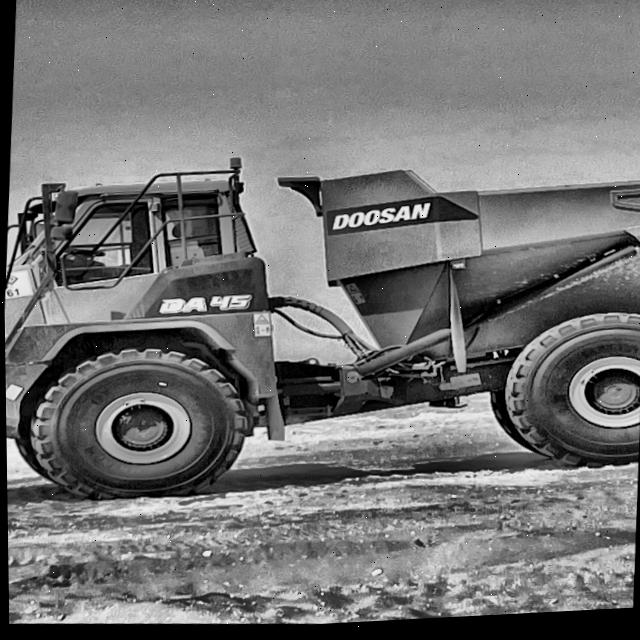dump_truck: (2, 120, 640, 548)
